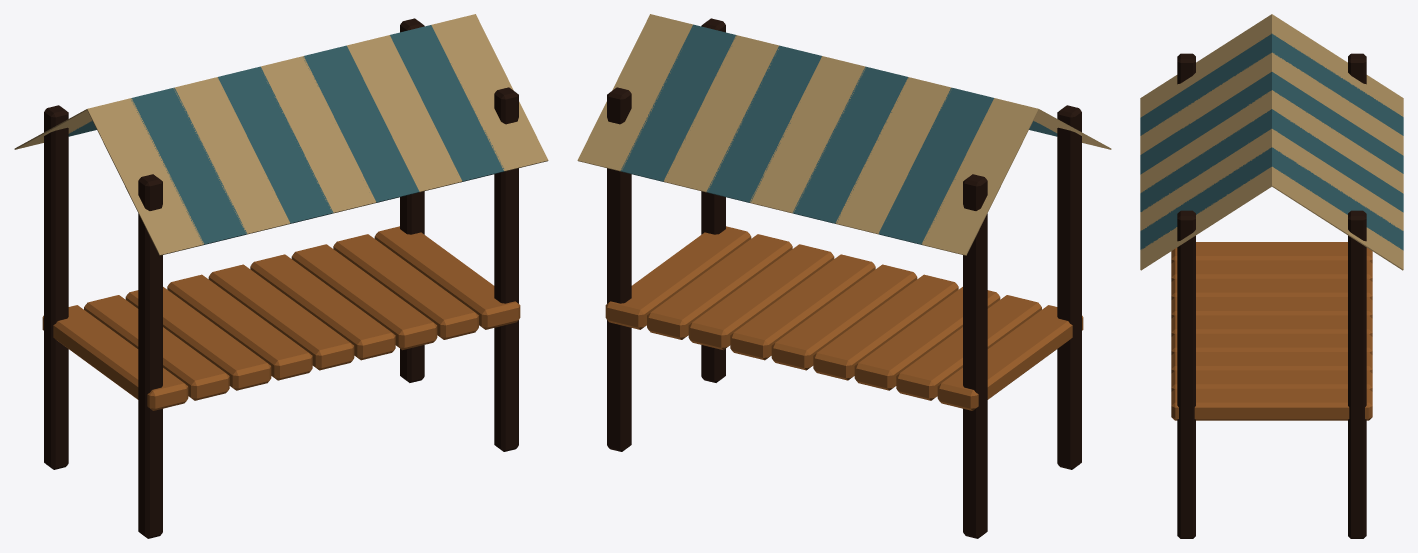
Rendered from Banca_de_mercado_LOD0.fbx.
The picture shows the model from 3 angles, left to right: view 1: azimuth 30°, elevation 25°; view 2: azimuth 150°, elevation 25°; view 3: azimuth 270°, elevation 25°; orthographic projection. The views are drawn at different scales.
Visible parts, largest first — view 1: Banca_de_mercado_LOD0; view 2: Banca_de_mercado_LOD0; view 3: Banca_de_mercado_LOD0.
Part boxes in pixels (box(x1,y1,x2,y2)): Banca_de_mercado_LOD0: box(14, 14, 548, 538); Banca_de_mercado_LOD0: box(577, 14, 1111, 538); Banca_de_mercado_LOD0: box(1140, 14, 1403, 538).
Bounding box in the file's own units: 262 × 255 × 170.
1 material, 1 textured.
